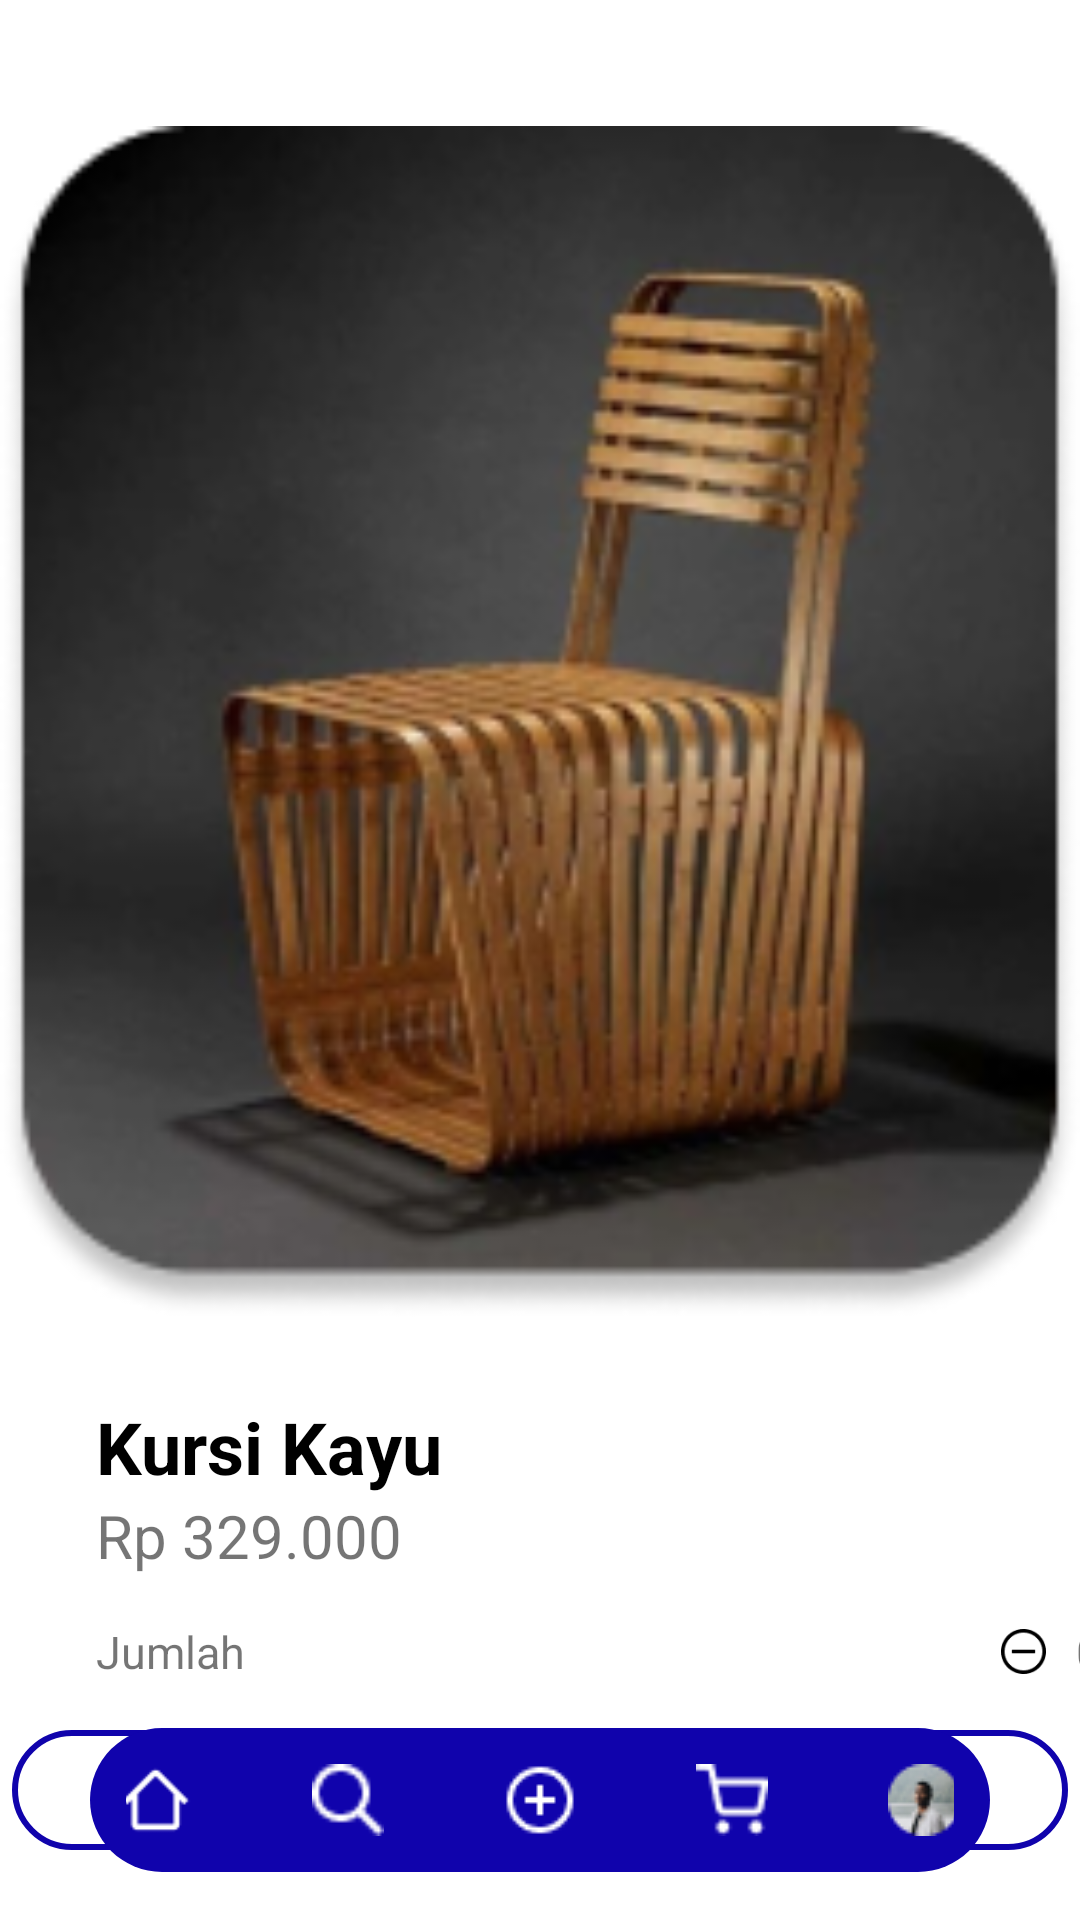

Where icons sit on this 1080px x 1920px app screen, as box(x1, y1, x2, y2):
btnmin: box(1001, 1629, 1046, 1674)
home: box(126, 1769, 189, 1831)
profile: box(888, 1764, 954, 1836)
search: box(312, 1764, 384, 1836)
shop: box(696, 1764, 768, 1836)
